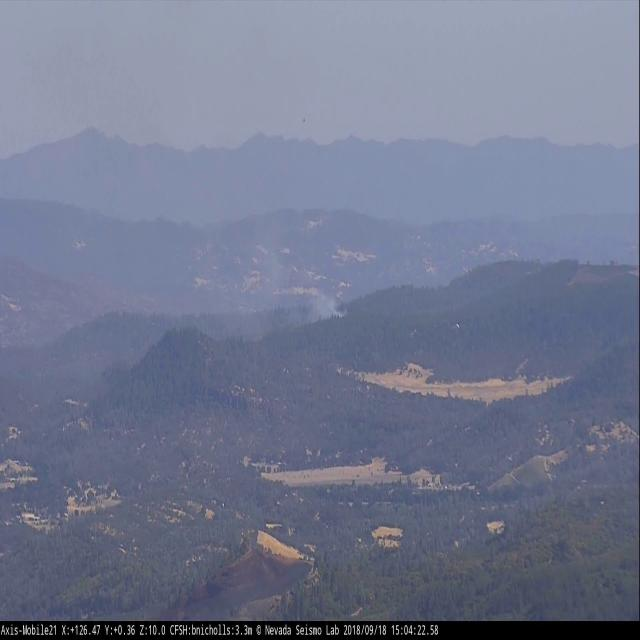smoke: (188, 205, 349, 346)
